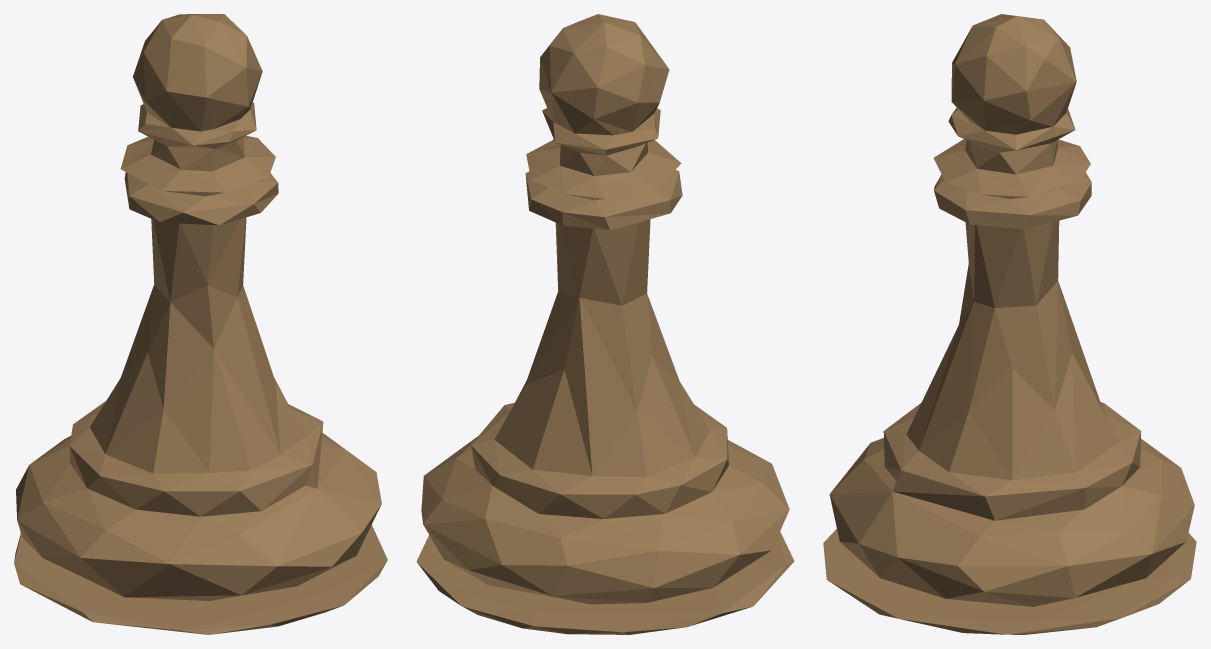
File: pawn_a1.obj
3 views of the same model, side by side, from view 1: azimuth 30°, elevation 25°; view 2: azimuth 150°, elevation 25°; view 3: azimuth 270°, elevation 25° (orthographic).
Visible parts, largest first — view 1: Icosphere.162_Icosphere.167; view 2: Icosphere.162_Icosphere.167; view 3: Icosphere.162_Icosphere.167.
Boxes of the visible parts, x1,y1,x2,y2 form: Icosphere.162_Icosphere.167: (14,14,387,634); Icosphere.162_Icosphere.167: (416,14,794,634); Icosphere.162_Icosphere.167: (823,14,1196,634).
Size of the model in its own units: 1.49 by 2.36 by 1.46.
